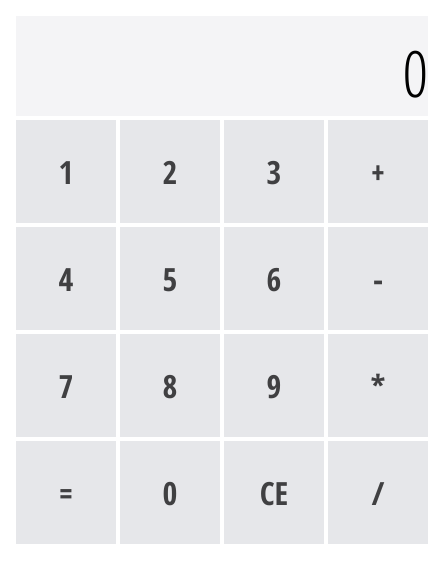
Scenario: testing keyboard › testing display works
What coordinates should you click on to do the following:
click the button with test id "button-value-1"
I would click on:
 (66, 172)
Its box is x1=16 y1=120 x2=116 y2=223.
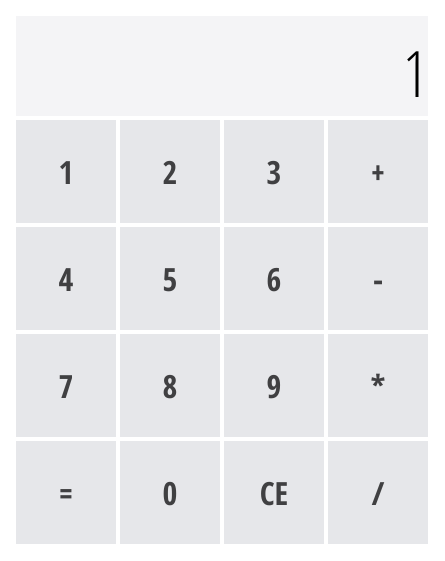
Result: the text with test id "display" reads "1" at x1=402 y1=29 x2=428 y2=116
